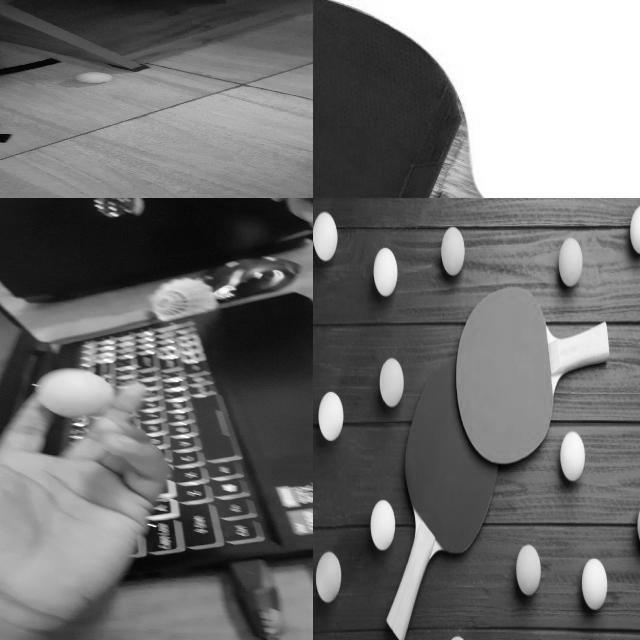ping-pong-ball: (36, 368, 110, 419), (368, 244, 398, 298), (559, 430, 587, 485), (580, 559, 608, 613), (317, 392, 345, 444), (368, 500, 396, 552), (312, 210, 341, 260), (379, 358, 404, 407), (316, 552, 341, 601), (516, 545, 541, 594), (440, 227, 464, 276), (559, 238, 581, 287), (77, 72, 110, 83)
